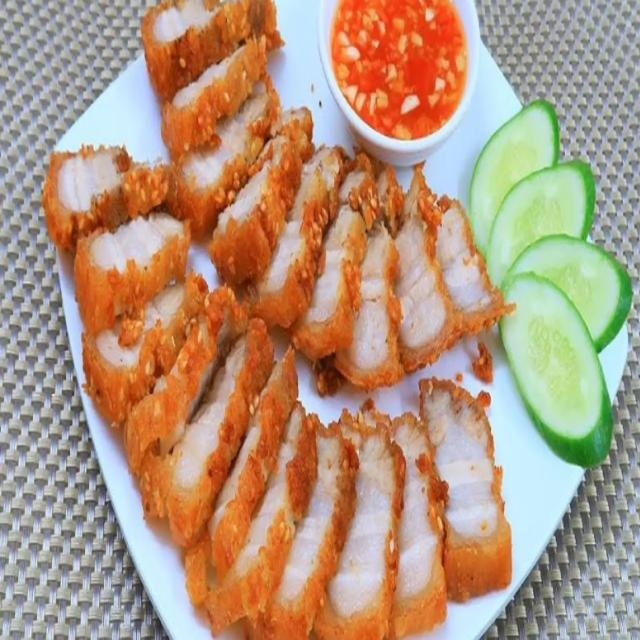dua leo: (467, 100, 632, 468)
nuoc mam: (331, 0, 468, 139)
thit chien: (43, 146, 511, 640), (142, 0, 511, 389)
